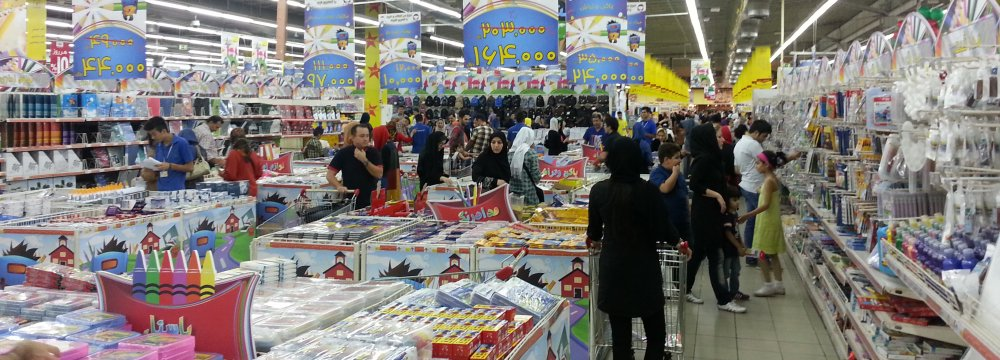Age_20_30: (487, 133, 511, 157)
Age_30_40: (696, 121, 735, 155), (347, 123, 386, 149)
Age_below20: (143, 121, 175, 154)
E_Asian: (143, 121, 175, 154)
E_White: (696, 121, 735, 155), (347, 123, 386, 149), (487, 133, 511, 157)
Emotion_Neutral: (696, 121, 735, 155), (143, 121, 175, 154), (347, 123, 386, 149), (487, 133, 511, 157)
G_ Female: (696, 121, 735, 155), (487, 133, 511, 157)
G_Male: (143, 121, 175, 154), (347, 123, 386, 149)
Not_Face: (230, 126, 253, 153)
